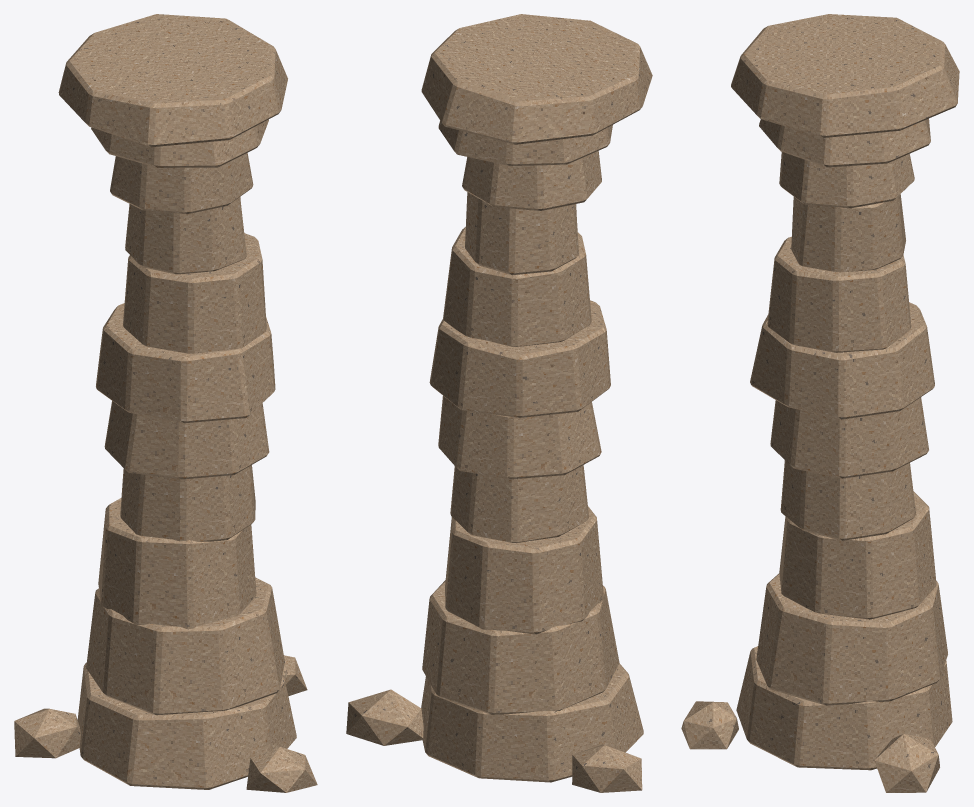
The model's file is ruins_hoodoo.glb.
3 views of the same model, side by side, from view 1: azimuth 30°, elevation 25°; view 2: azimuth 150°, elevation 25°; view 3: azimuth 270°, elevation 25° (orthographic). The views are drawn at different scales.
Visible parts, largest first — view 1: Hoodoo; view 2: Hoodoo; view 3: Hoodoo.
Part boxes in pixels (x1,y1,x2,y2): Hoodoo: [14, 14, 317, 792]; Hoodoo: [346, 14, 652, 792]; Hoodoo: [681, 14, 959, 792].
Bounding box in the file's own units: 6.79 × 15.58 × 5.85.
1 material, 1 textured.
